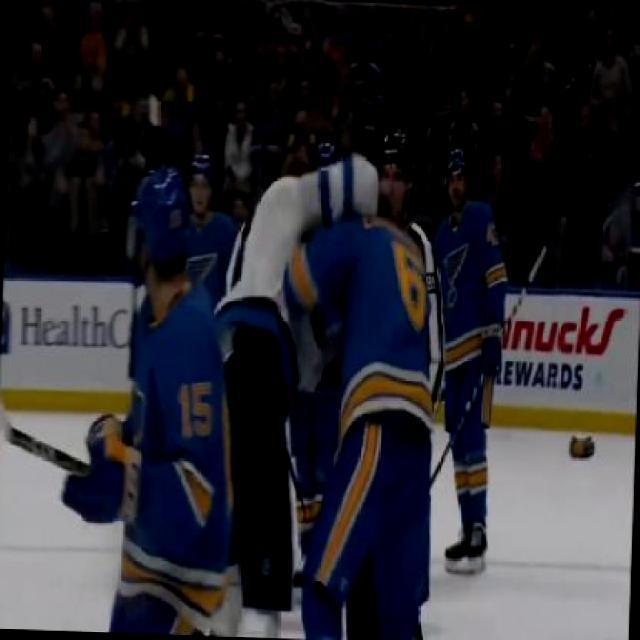fight: (210, 134, 442, 604)
non-fight: (52, 166, 236, 636), (426, 155, 516, 580)
